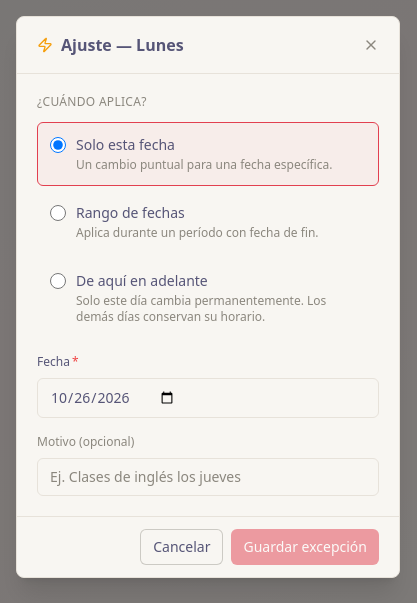
Test: OverrideScopeDialog › shows "A partir de" label for indefinite scope
This screenshot has width=417, height=603.
Click the 3rd radio button.
click(58, 281)  # box [50,273,66,289]
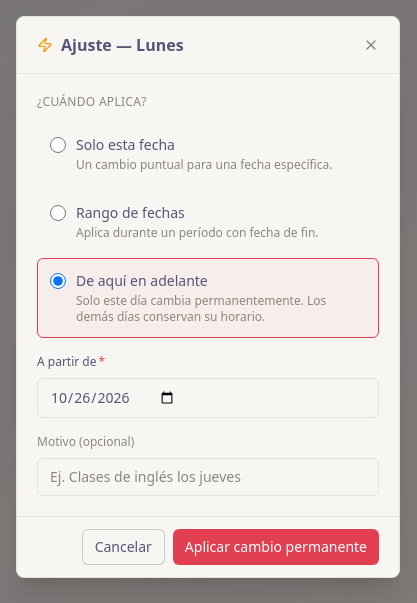
Now the text "A partir de" is shown, box [37,353,96,370]
